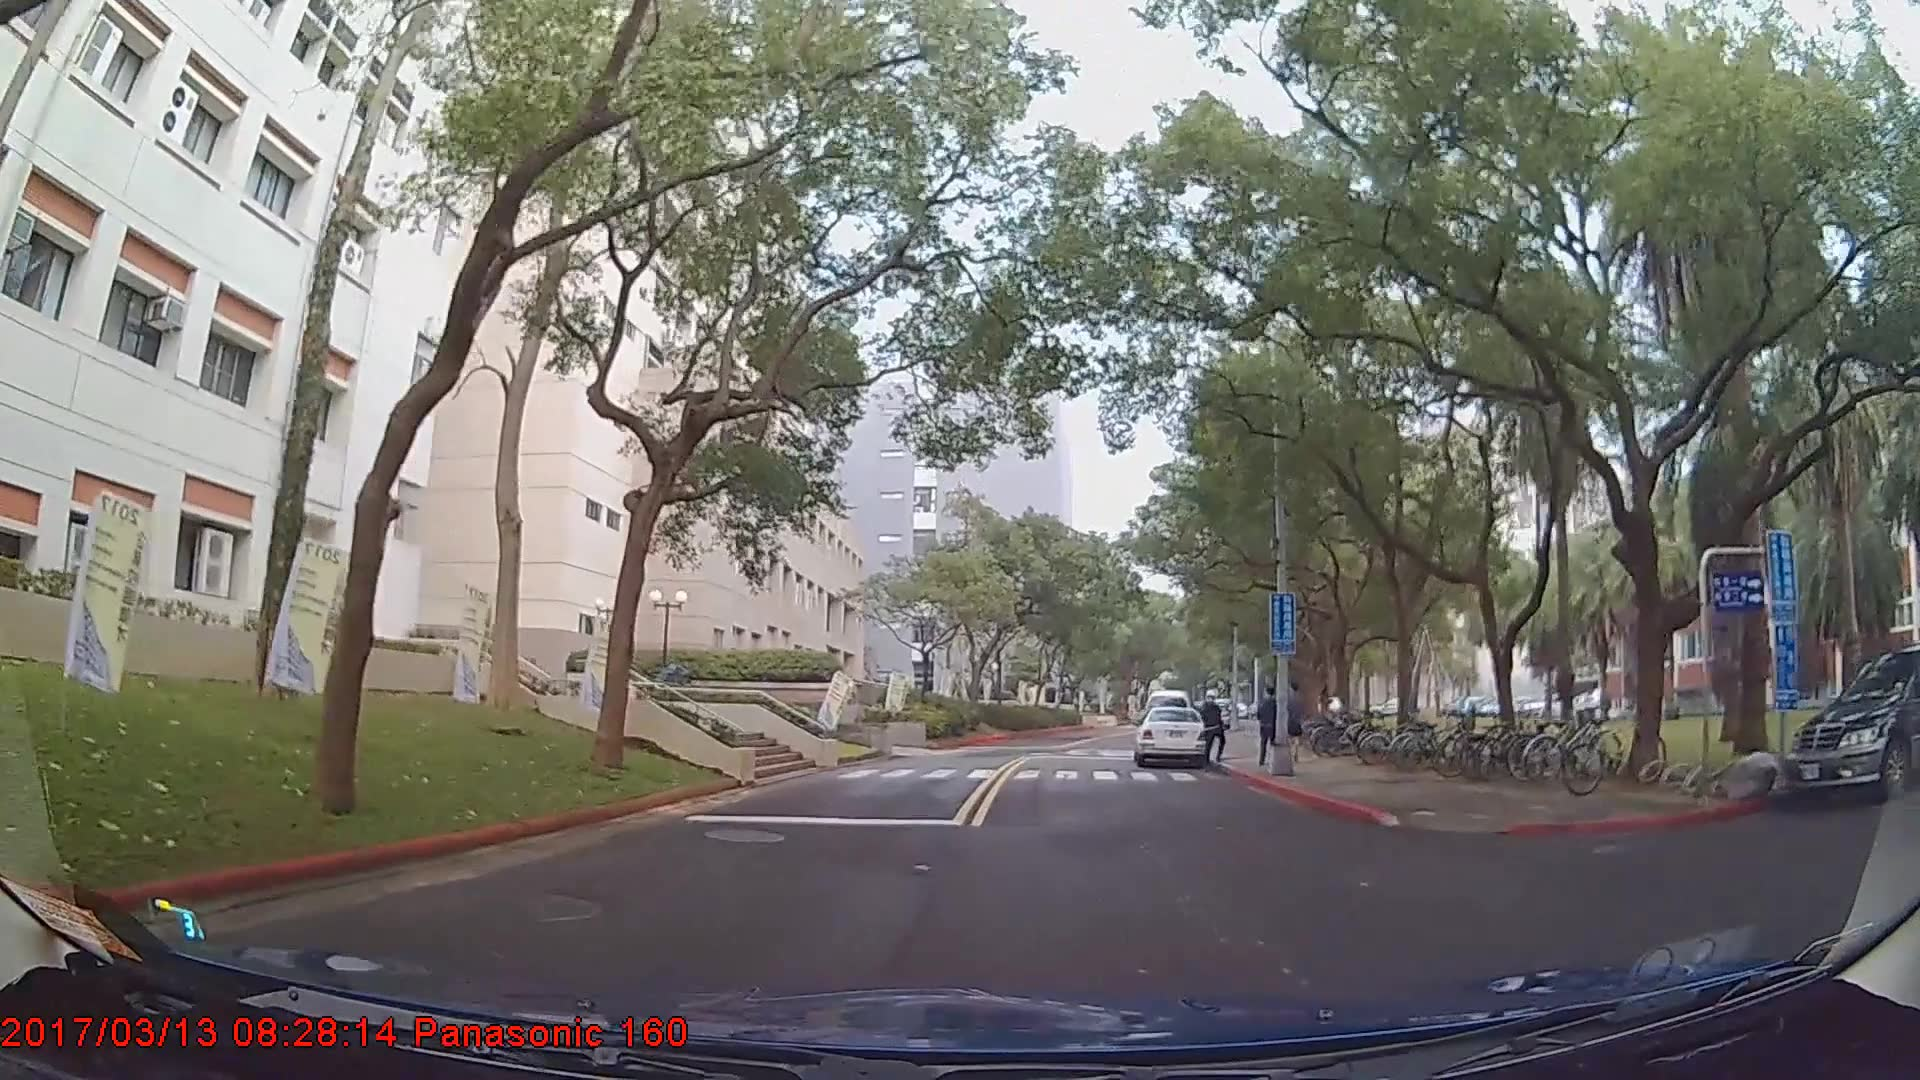pedestrian: (1255, 684, 1287, 763), (1201, 688, 1227, 764)
vehicle: (1788, 646, 1920, 801), (1131, 701, 1210, 766)
